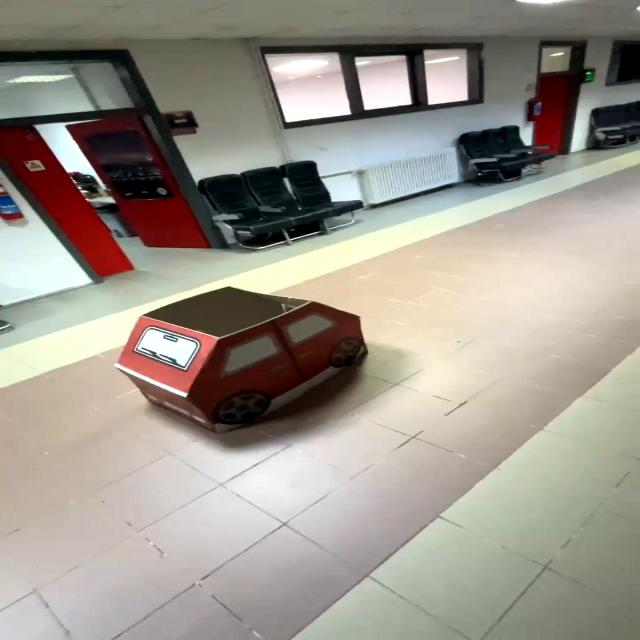red_car: (100, 278, 391, 451)
